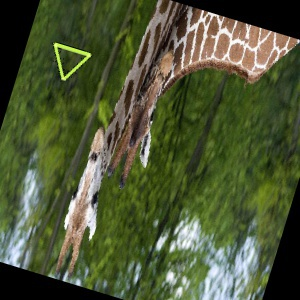triangle: (48, 39, 94, 83)
